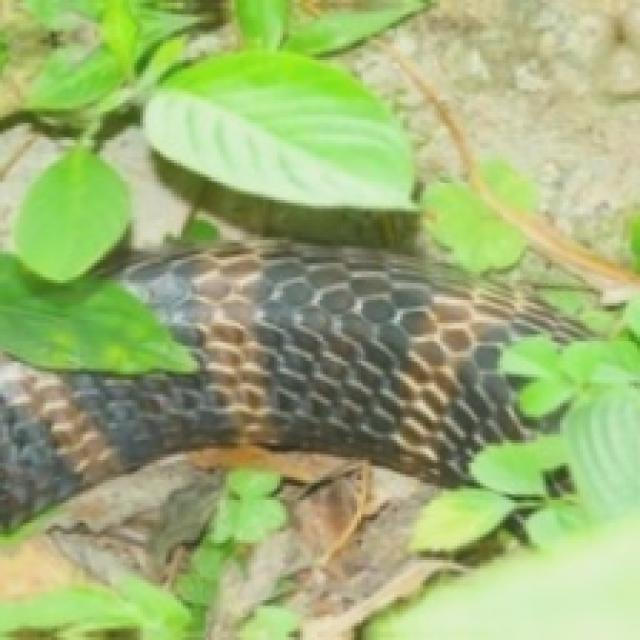king cobra: (0, 240, 580, 529)
